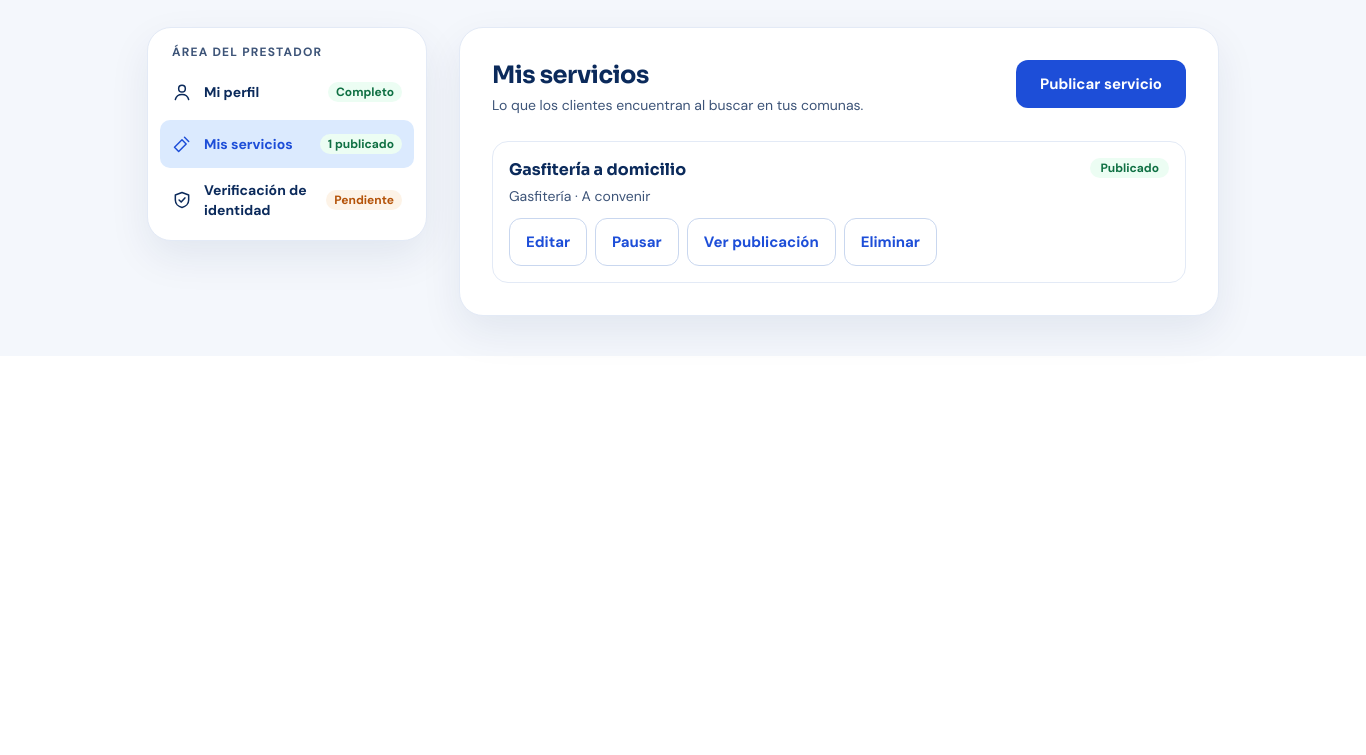
Scenario: Comunas de atención y servicios del prestador › edita un servicio en su propia página, con sus datos cargados
The image size is (1366, 755).
Step 1. Click the link "Editar" → (548, 242), box x1=509 y1=218 x2=587 y2=266
(page scrolled)
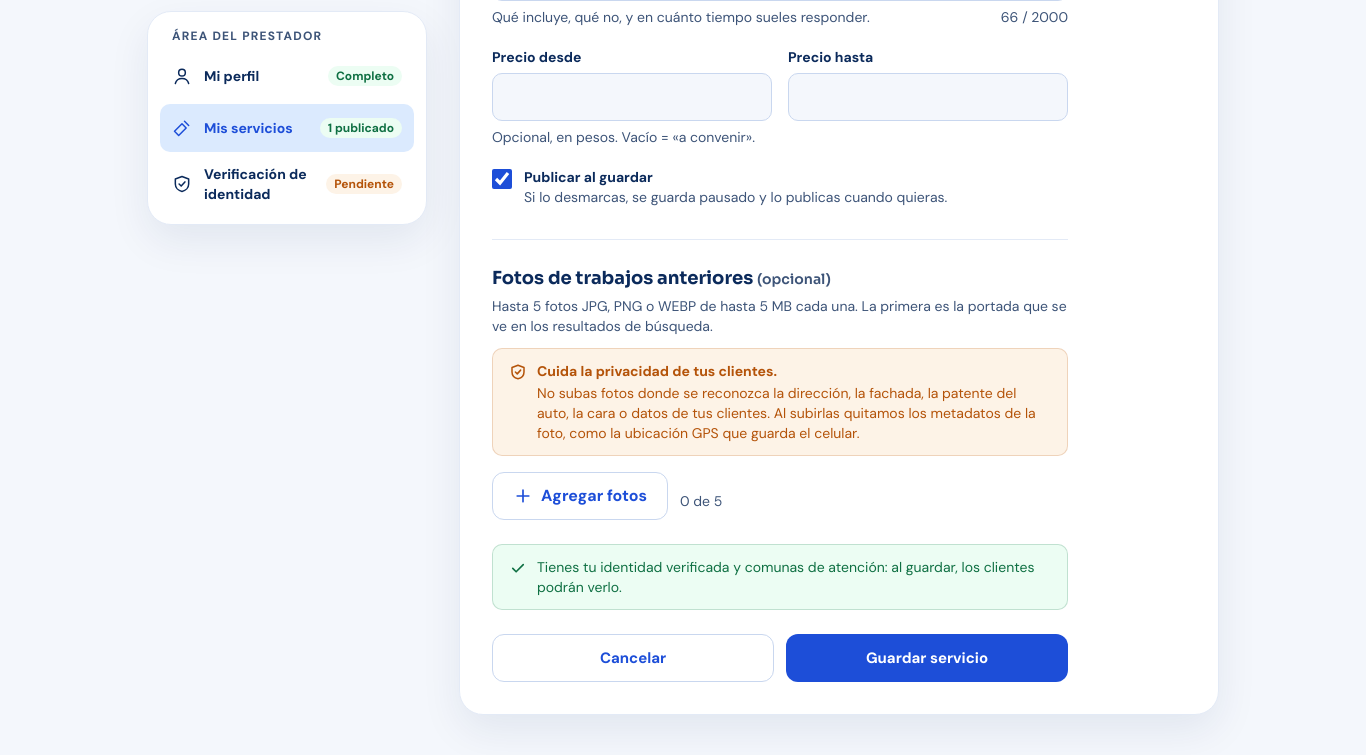
Step 2. Click the button "Guardar servicio" → (927, 658), box x1=786 y1=634 x2=1068 y2=682
(page scrolled)
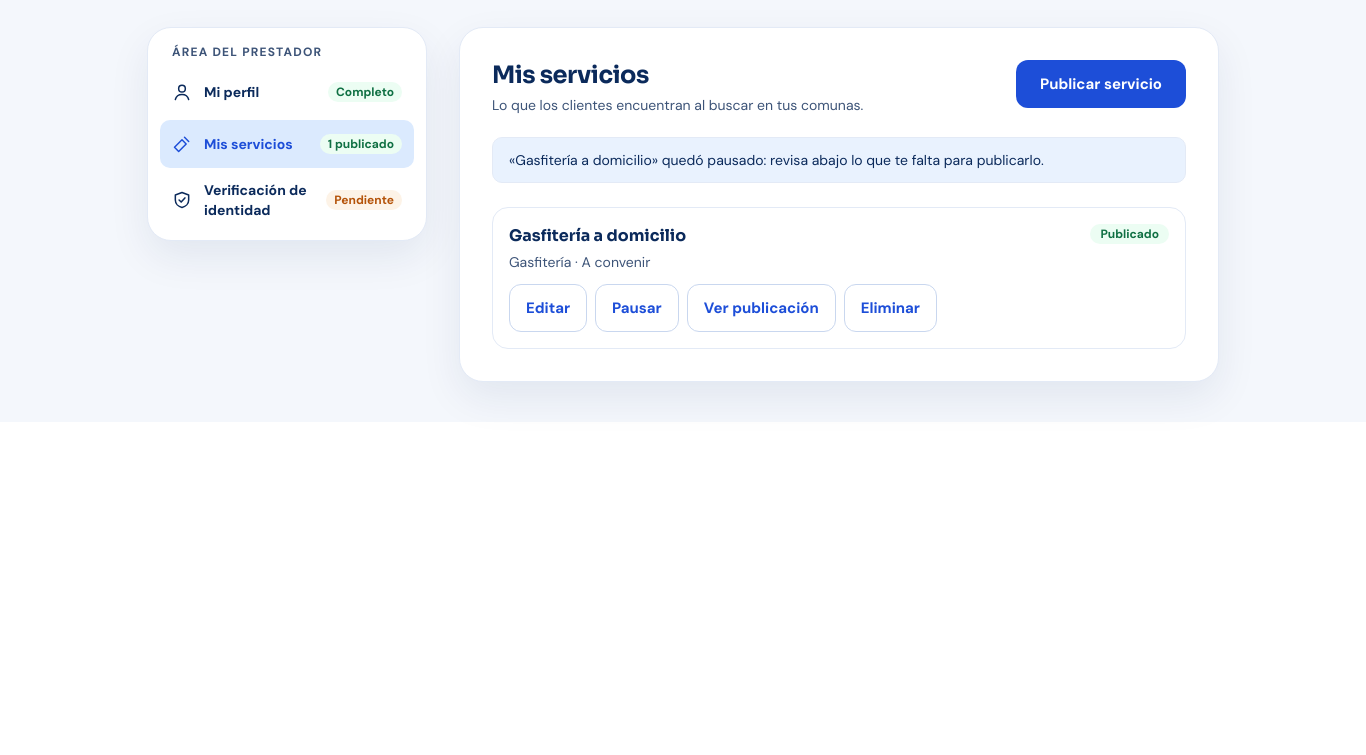
Expected: the heading "Mis servicios" is shown, x1=492 y1=60 x2=649 y2=90
